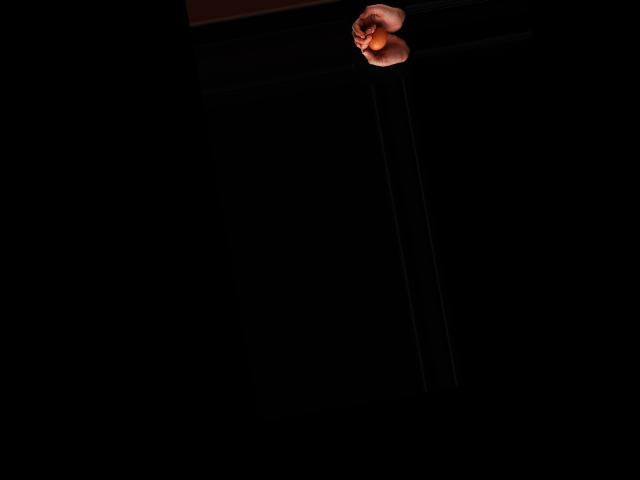egg: (365, 24, 389, 51)
